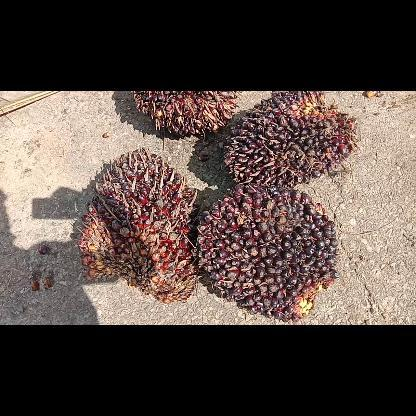TBS mentah: (196, 182, 338, 322), (78, 149, 202, 301), (224, 90, 356, 186), (132, 90, 238, 136)
